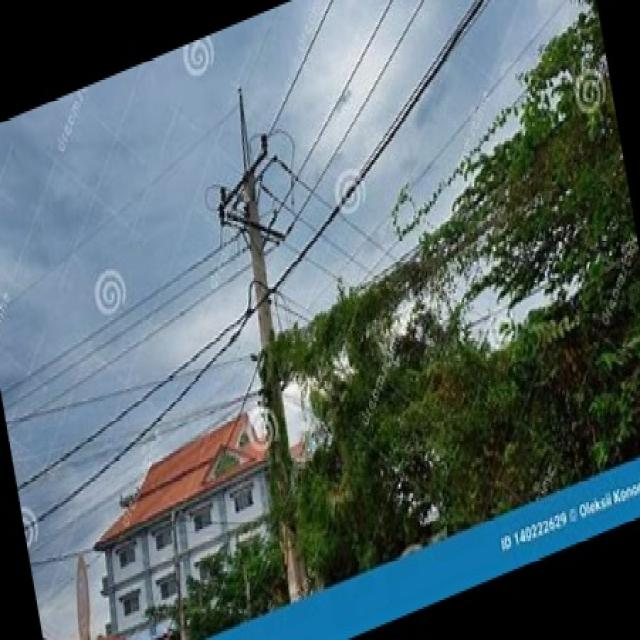critical vegetation: (267, 216, 640, 389)
